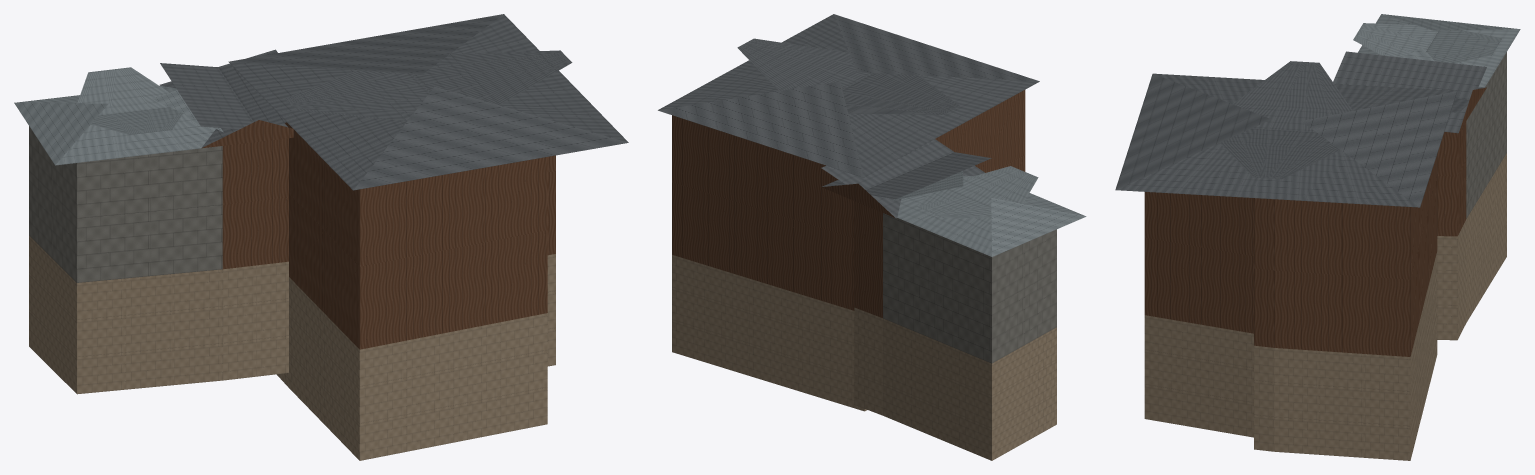
The model's file is bld_c35_-29_451.gltf.
3 views of the same model, side by side, from view 1: azimuth 30°, elevation 25°; view 2: azimuth 150°, elevation 25°; view 3: azimuth 270°, elevation 25° (orthographic). The views are drawn at different scales.
Visible parts, largest first — view 1: bld_c35_-29_451; view 2: bld_c35_-29_451; view 3: bld_c35_-29_451.
Part boxes in pixels (<box>): bld_c35_-29_451: <box>14,14,628,460</box>; bld_c35_-29_451: <box>658,14,1086,460</box>; bld_c35_-29_451: <box>1115,14,1520,460</box>.
Size of the model in its own units: 22.53 by 13.7 by 18.03.
6 materials, 6 textured.
